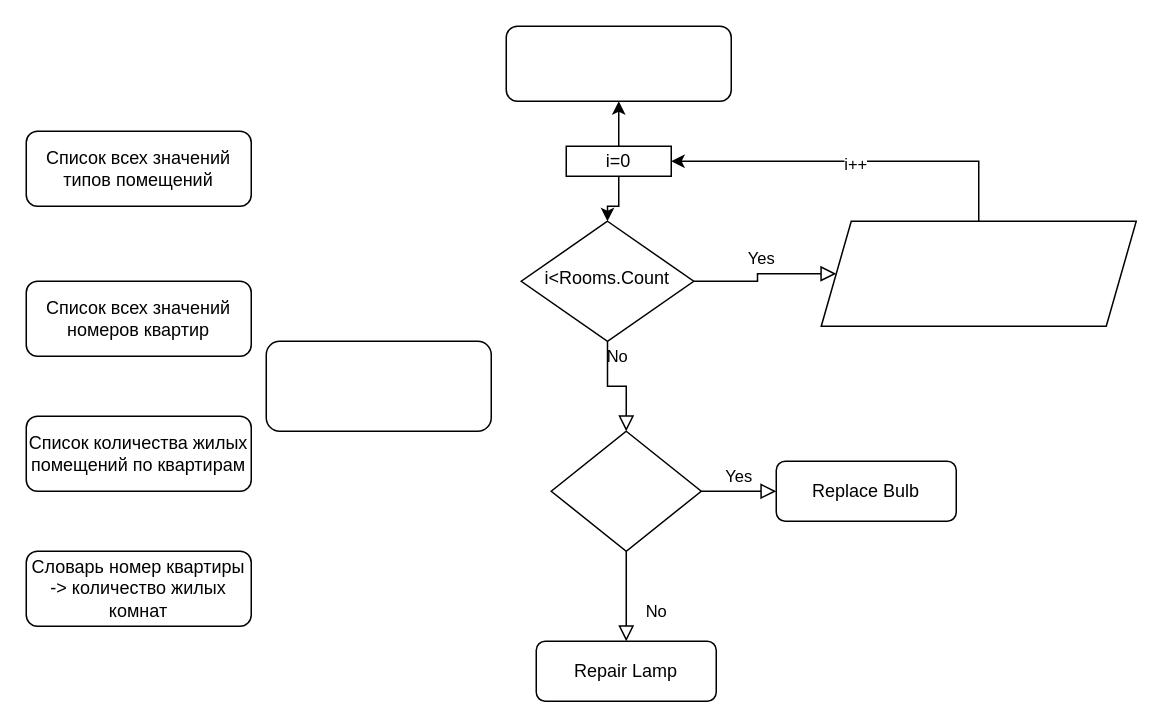
Image size: 1163x728. Some labels were removed from this diagram. The centre of each missing label's shape, as x and y in pixels:
Bulb burned out?: point 625,490
Заполнение типа помещения и коэффициента площади: point 978,273
Список всех помещений с заполненным номером квартиры: point 618,63
Список уникальных значений номеров квартир: point 378,385
